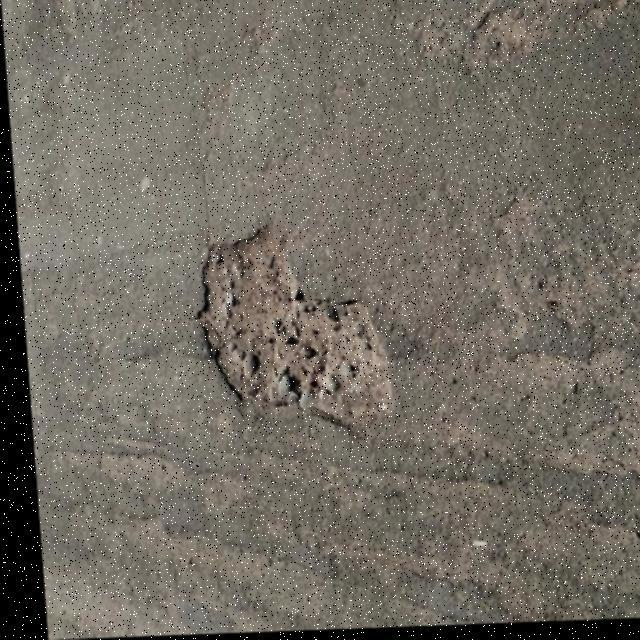pothole: (178, 222, 390, 446)
